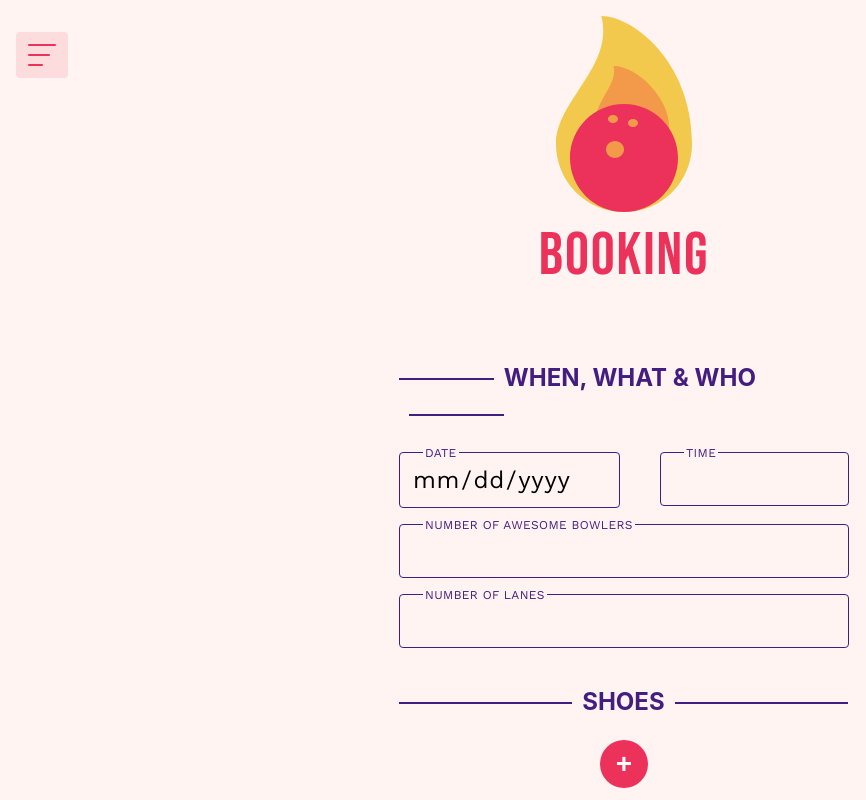
it: App › should render a button that adds a shoe-size input when clicked
Click the button at (624, 764), box [600,740,648,788]
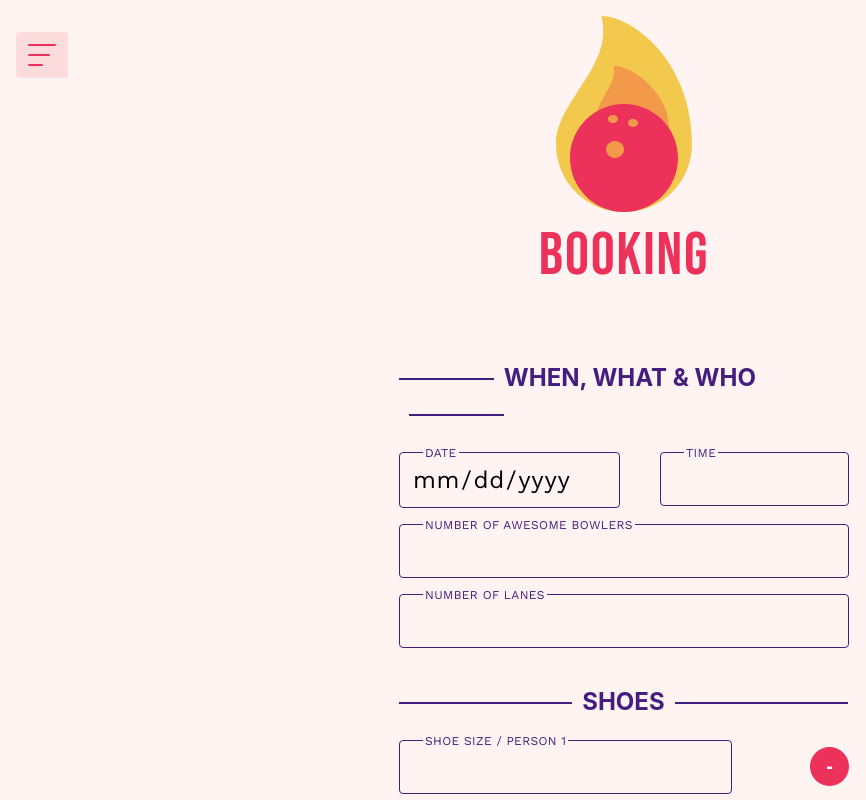
Result: the field next to "Shoe size / person 1" is shown at [399,740,732,794]
